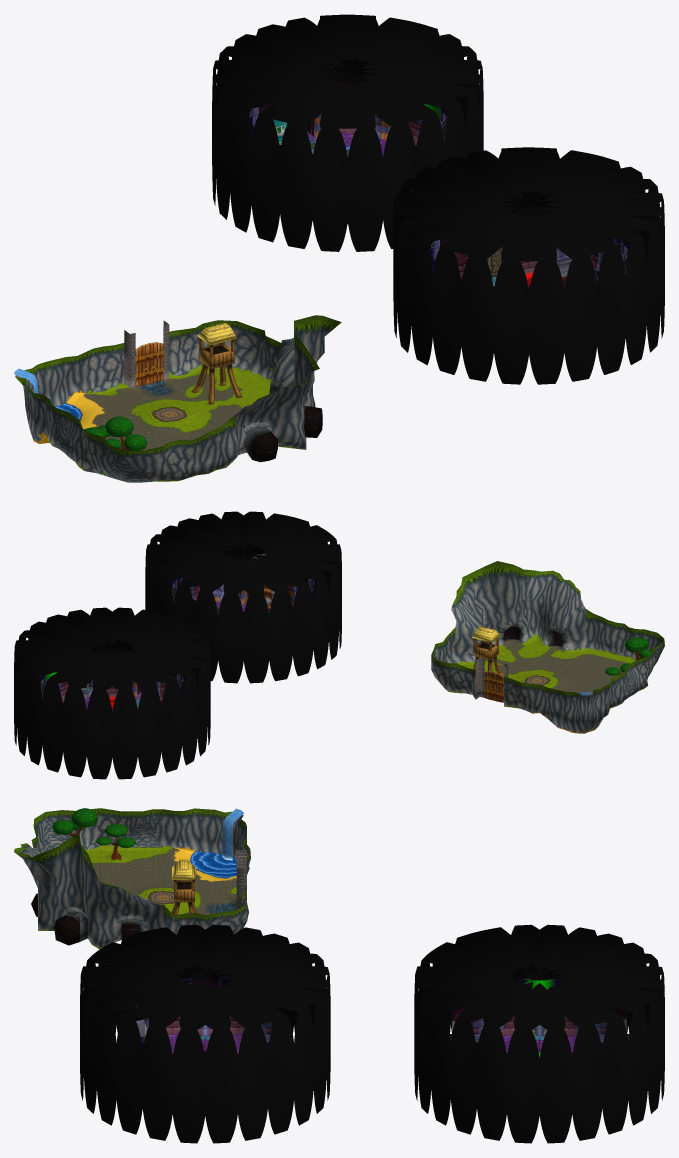
The picture shows the model from 3 angles, top to bottom: view 1: azimuth 30°, elevation 25°; view 2: azimuth 150°, elevation 25°; view 3: azimuth 270°, elevation 25°; orthographic projection. The views are drawn at different scales.
Visible parts, largest first — view 1: T3I1M001_115, T3I1M001_37, T3I1M001_71, T3I1M001_17, T3I1M001_57, T3I1M001_10, T3I1M001_32, T3I1M001_102, T3I1M001_20, T3I1M001_74, T3I1M001_31, T3I1M001_101 (+52 smaller); view 2: T3I1M001_1, T3I1M001_41, T3I1M001_10, T3I1M001_57, T3I1M001_40, T3I1M001_0, T3I1M001_45, T3I1M001_5, T3I1M001_2, T3I1M001_112, T3I1M001_74, T3I1M001_20 (+37 smaller); view 3: T3I1M001_16, T3I1M001_63, T3I1M001_36, T3I1M001_106, T3I1M001_77, T3I1M001_23, T3I1M001_20, T3I1M001_74, T3I1M001_92, T3I1M001_30, T3I1M001_9, T3I1M001_49 (+48 smaller).
Part boxes in pixels (x1,y1,x2,y2): T3I1M001_115: (529, 255, 597, 384); T3I1M001_37: (348, 123, 415, 251); T3I1M001_71: (411, 214, 520, 365); T3I1M001_17: (230, 81, 338, 232); T3I1M001_57: (393, 207, 516, 352); T3I1M001_10: (212, 74, 335, 219); T3I1M001_32: (312, 128, 347, 251); T3I1M001_102: (494, 260, 528, 384); T3I1M001_20: (345, 60, 482, 157); T3I1M001_74: (541, 192, 663, 241); T3I1M001_31: (280, 123, 312, 248); T3I1M001_101: (461, 255, 493, 381); T3I1M001_1: (48, 653, 112, 779); T3I1M001_41: (179, 556, 243, 683); T3I1M001_10: (121, 651, 204, 772); T3I1M001_57: (253, 555, 336, 676); T3I1M001_40: (223, 557, 269, 683); T3I1M001_0: (92, 653, 137, 779); T3I1M001_45: (249, 556, 307, 681); T3I1M001_5: (117, 652, 176, 777); T3I1M001_2: (20, 651, 95, 772); T3I1M001_112: (493, 561, 541, 655); T3I1M001_74: (179, 511, 263, 611); T3I1M001_20: (48, 607, 132, 644); T3I1M001_16: (539, 1024, 602, 1143); T3I1M001_63: (205, 1024, 267, 1143); T3I1M001_36: (431, 1006, 476, 1134); T3I1M001_106: (97, 1007, 142, 1134); T3I1M001_77: (172, 1029, 205, 1143); T3I1M001_23: (507, 1029, 539, 1143); T3I1M001_20: (421, 980, 532, 1027); T3I1M001_74: (87, 980, 198, 1026); T3I1M001_92: (142, 1024, 172, 1140); T3I1M001_30: (477, 1024, 506, 1140); T3I1M001_9: (602, 1017, 628, 1134); T3I1M001_49: (268, 1017, 293, 1134).
Size of the model in its own units: 63.31 by 12.75 by 62.31.
1 material, 1 textured.
